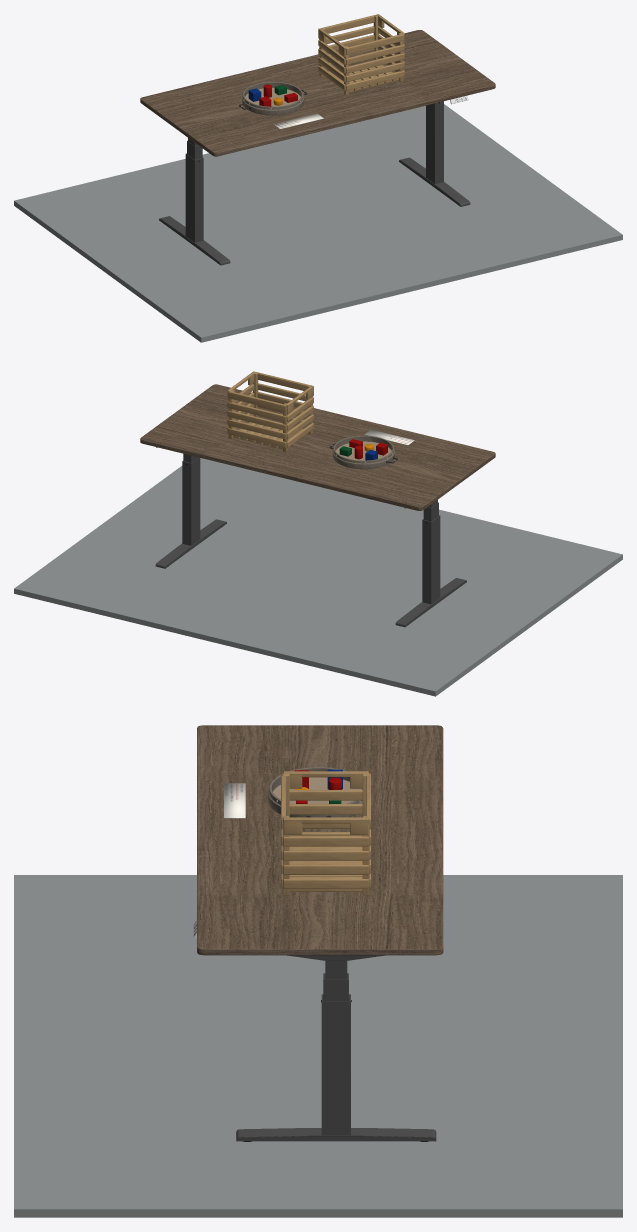
3 views of the same model, one above another, from view 1: azimuth 30°, elevation 25°; view 2: azimuth 150°, elevation 25°; view 3: azimuth 270°, elevation 25° (orthographic). The views are drawn at different scales.
Visible parts, largest first — view 1: o_666c6f6f72, E_part3_6, P_2860db28ad668cd9, Tray, Part10; view 2: o_666c6f6f72, E_part3_6, P_2860db28ad668cd9, Tray, Part8; view 3: o_666c6f6f72, E_part3_6, P_2860db28ad668cd9, Tray, Part32, Part36, Part40, Part44, P_4f2dfe01d7a24cd9, Part34, Part38, instruction.
Part boxes in pixels (x1,y1,x2,y2): o_666c6f6f72: (14, 104, 622, 342); E_part3_6: (140, 30, 495, 156); P_2860db28ad668cd9: (159, 101, 470, 265); Tray: (239, 81, 307, 115); Part10: (346, 34, 404, 54); o_666c6f6f72: (14, 458, 622, 696); E_part3_6: (140, 384, 495, 510); P_2860db28ad668cd9: (155, 457, 466, 627); Tray: (329, 435, 397, 469); Part8: (228, 391, 285, 411); o_666c6f6f72: (14, 875, 622, 1217); E_part3_6: (197, 725, 443, 955); P_2860db28ad668cd9: (236, 994, 436, 1141); Tray: (268, 767, 362, 817); Part32: (283, 836, 368, 846); Part36: (283, 850, 368, 860); Part40: (283, 864, 368, 874); Part44: (283, 878, 368, 888); P_4f2dfe01d7a24cd9: (287, 955, 385, 979); Part34: (289, 790, 362, 800); Part38: (289, 804, 362, 814); instruction: (224, 783, 245, 818).
Bounding box in the file's own units: 2.6 × 1.06 × 2.
Materials: 16 (11 with a texture image).
